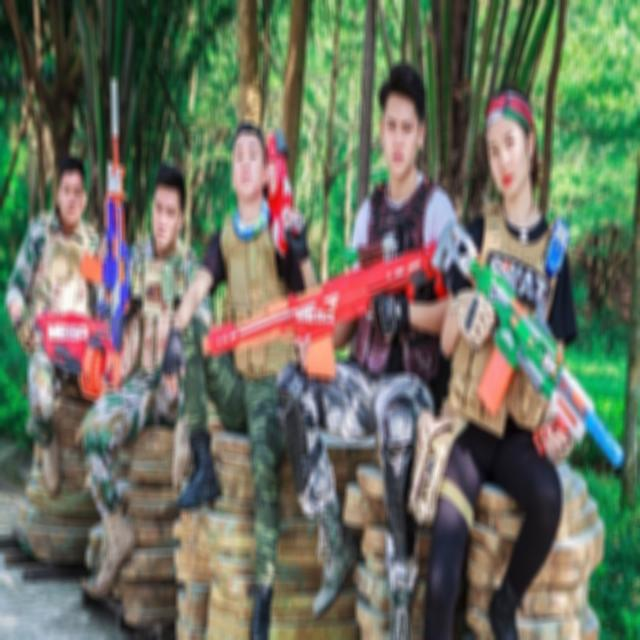Nerf gun: (431, 224, 625, 470), (192, 229, 448, 381), (71, 74, 140, 397), (26, 302, 124, 400), (258, 108, 306, 258)
